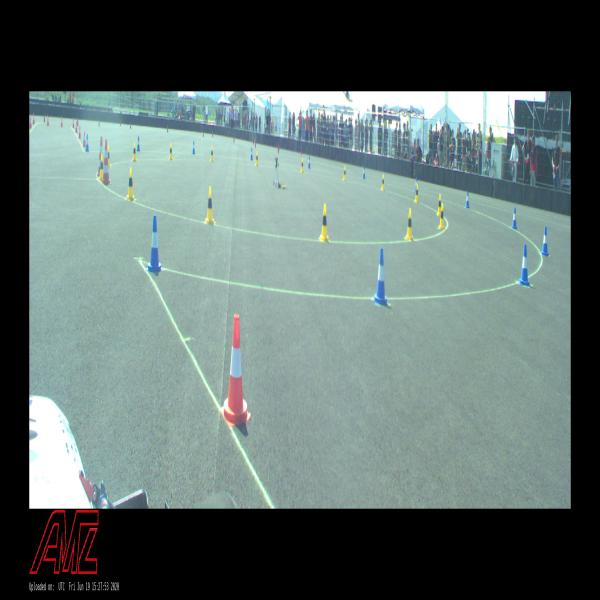blue_cone: (148, 215, 161, 272), (374, 247, 387, 304), (520, 244, 530, 286), (541, 226, 549, 256), (512, 207, 517, 229), (466, 190, 470, 208), (86, 134, 90, 152), (136, 136, 140, 151), (415, 177, 418, 192), (363, 166, 366, 178), (250, 148, 253, 160), (193, 141, 195, 154), (308, 157, 310, 168)
large_orange_cone: (103, 139, 110, 184), (98, 136, 104, 176)
orange_cone: (224, 314, 247, 424), (83, 131, 86, 147), (78, 125, 81, 138), (30, 116, 32, 128), (33, 113, 35, 124), (47, 116, 49, 126), (76, 122, 78, 132), (61, 117, 63, 126), (73, 118, 74, 128)
unknown_cone: (278, 142, 280, 150), (167, 126, 169, 133), (98, 120, 100, 126), (212, 132, 214, 138), (252, 137, 254, 143), (77, 116, 78, 126), (202, 131, 204, 136), (44, 113, 45, 122), (278, 146, 279, 154), (255, 141, 256, 148), (301, 148, 302, 155), (130, 122, 131, 128), (234, 137, 235, 142), (120, 120, 120, 126)
yellow_cone: (206, 186, 214, 225), (320, 204, 328, 240), (126, 168, 134, 200), (406, 208, 413, 240), (438, 203, 444, 229), (99, 154, 103, 179), (132, 143, 137, 161), (108, 146, 112, 168), (437, 194, 441, 214), (169, 143, 173, 160), (381, 175, 385, 191), (415, 184, 418, 203), (210, 147, 214, 161), (343, 166, 346, 181), (300, 159, 303, 172), (256, 151, 258, 166)
